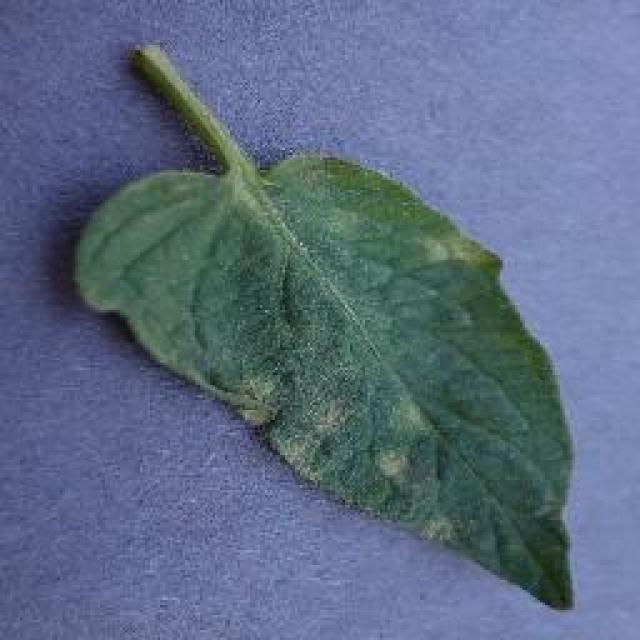Tomato___Leaf_Mold: (75, 45, 570, 605)
